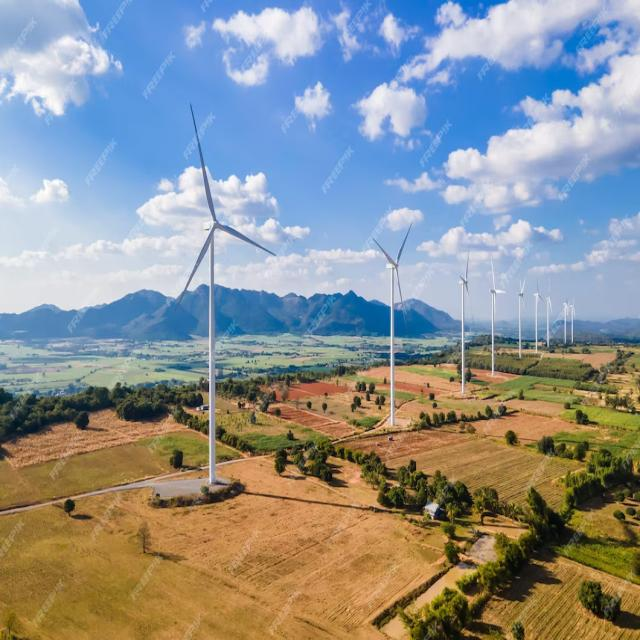solid-blade: (191, 103, 216, 220)
wind-turbine: (175, 103, 275, 484), (375, 225, 411, 424)
